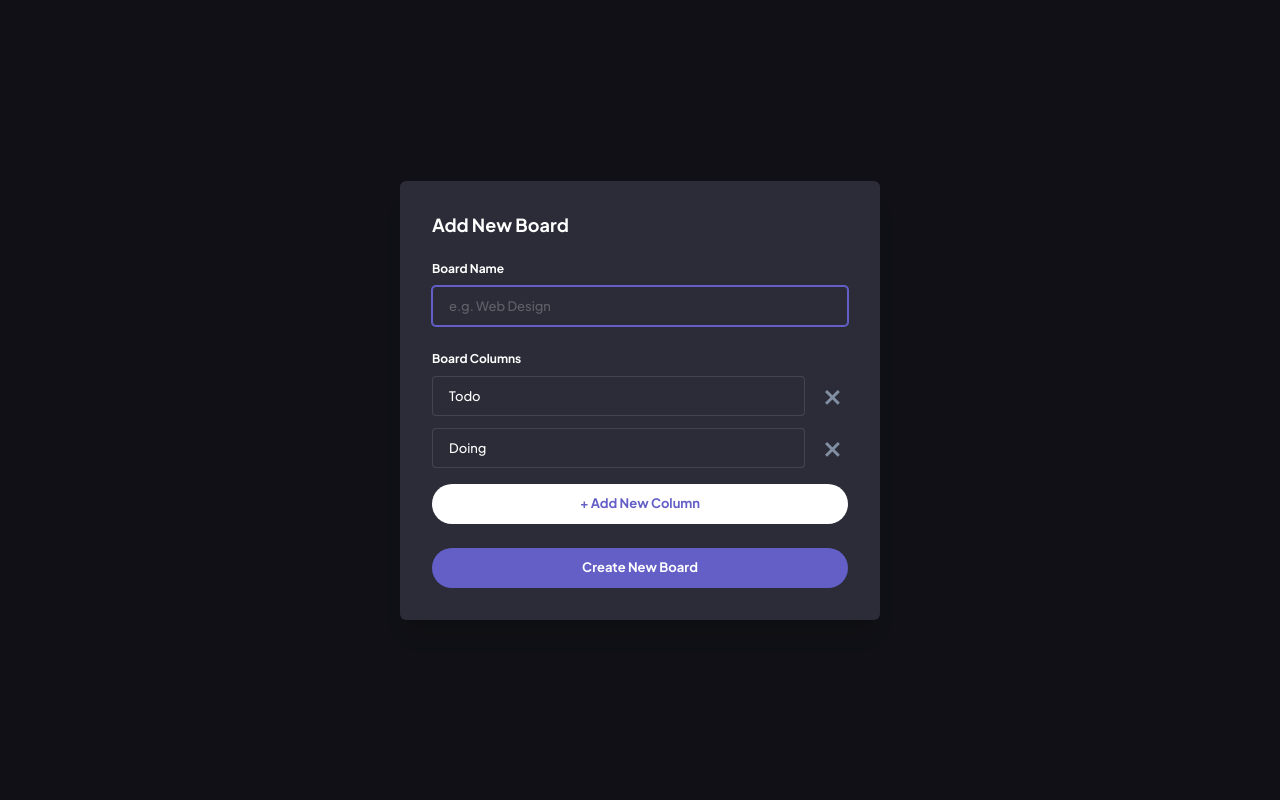
Test: BoardFormModal Component and Validation › shows error validations when submitting empty board name and empty columns
Click the button "Create New Board" at (640, 568), box top-left (432, 548), bottom-right (848, 588)
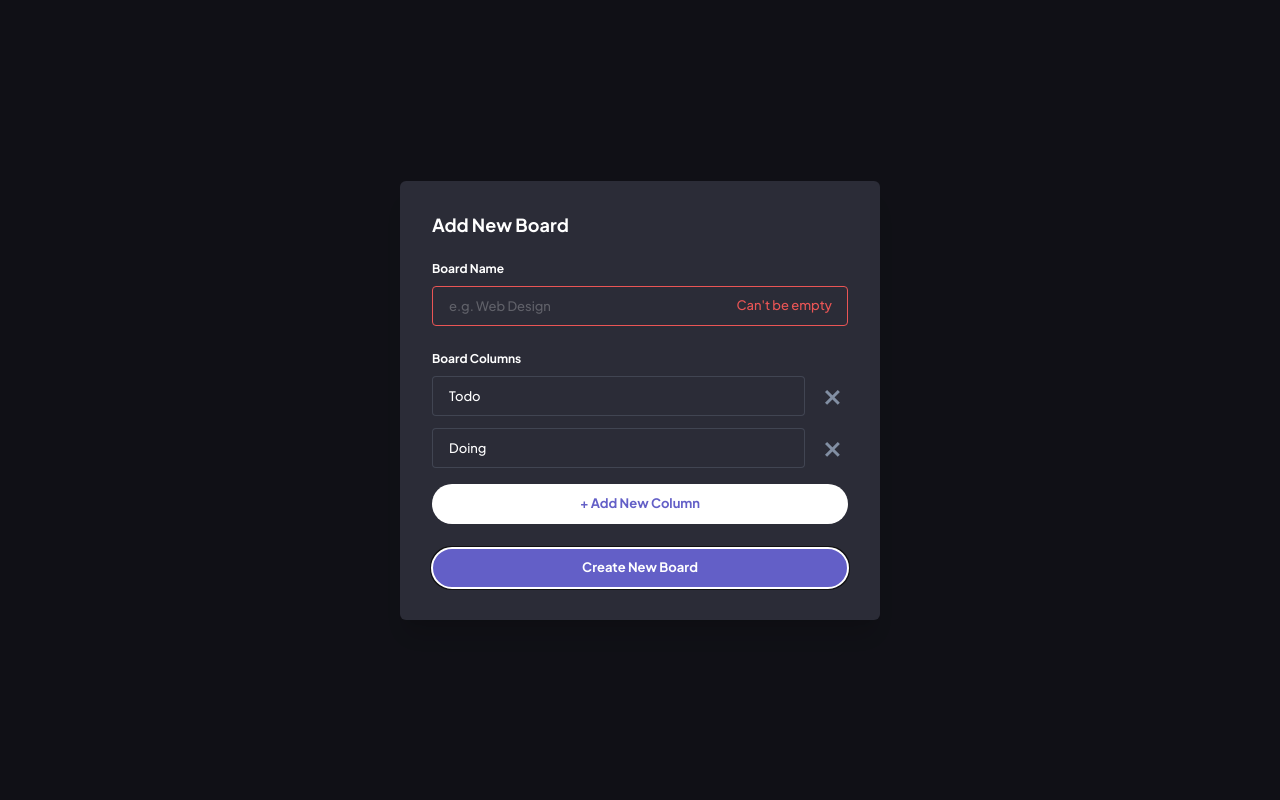
expect the message "Can't be empty" is shown: met, box top-left (736, 294), bottom-right (832, 317)
expect the message reads "Can't be empty": met, box top-left (736, 297), bottom-right (832, 313)
